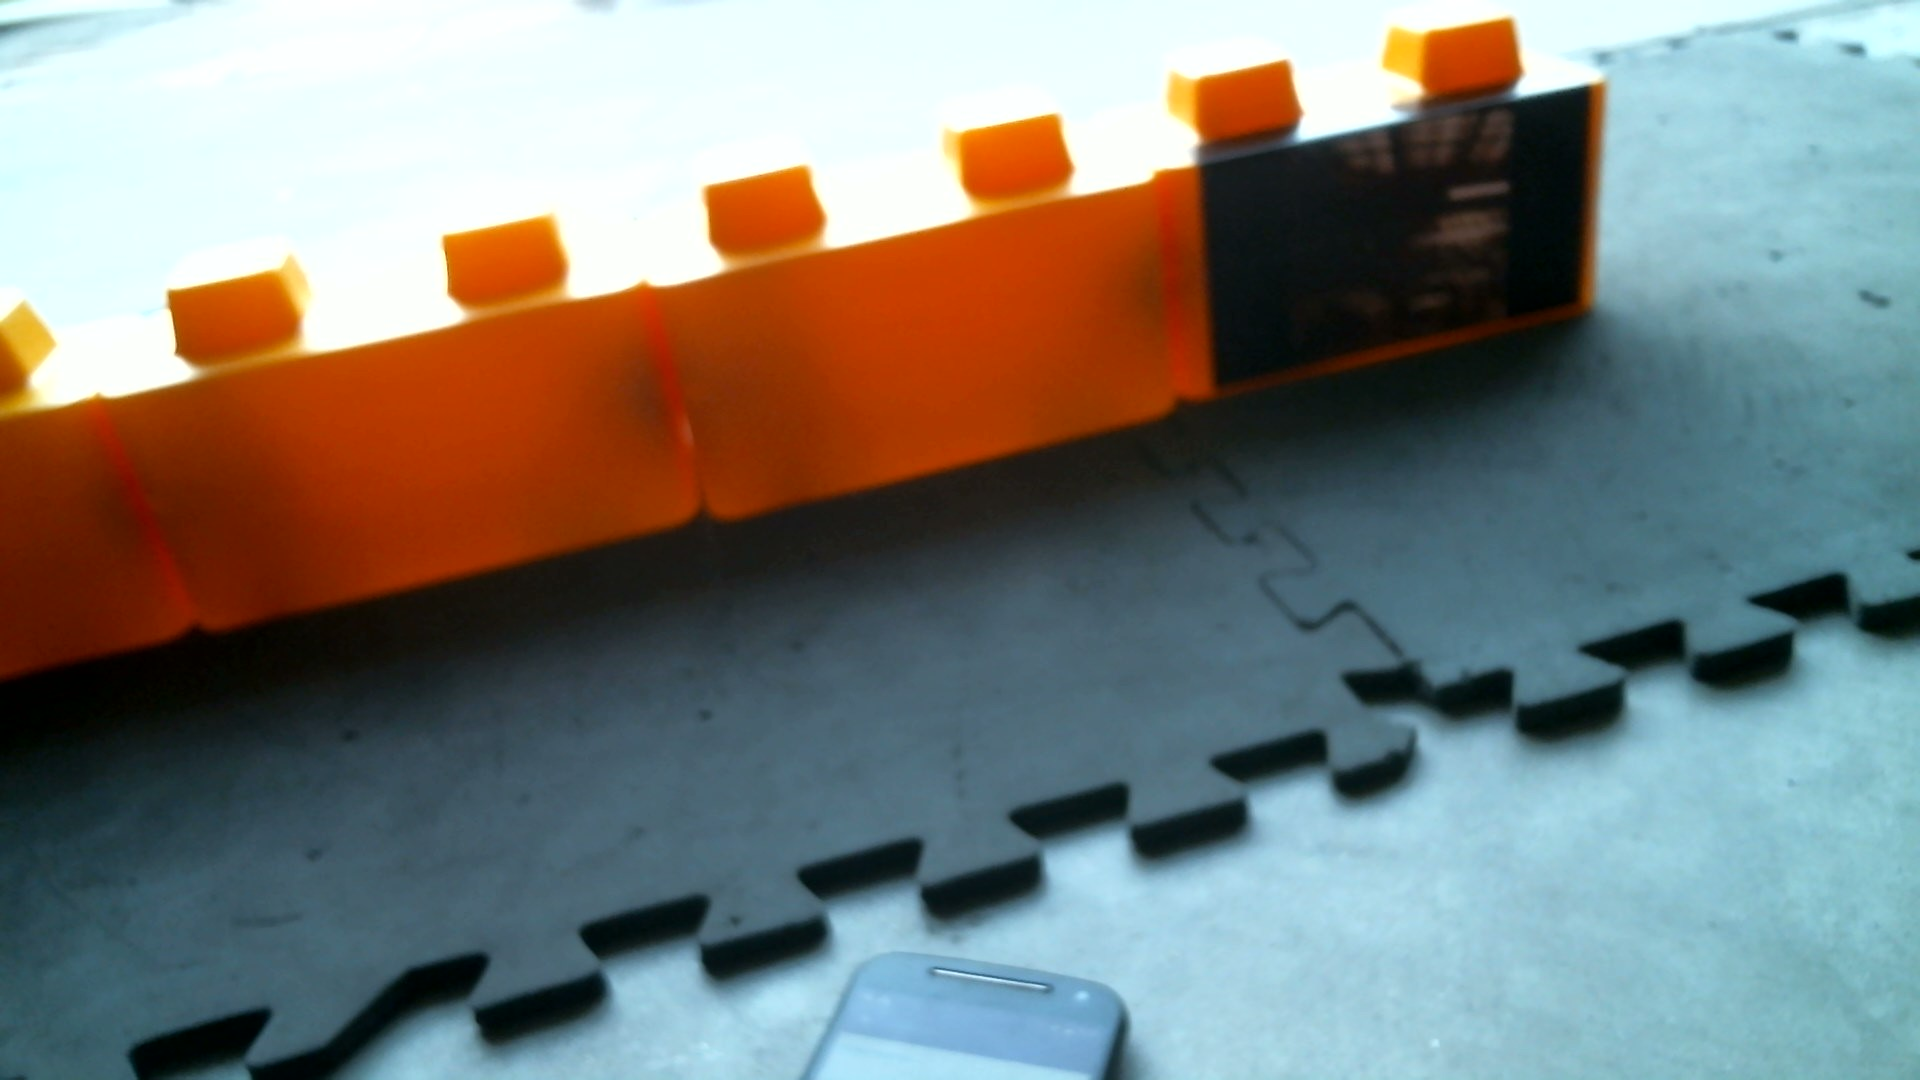right: (104, 1, 1611, 676)
